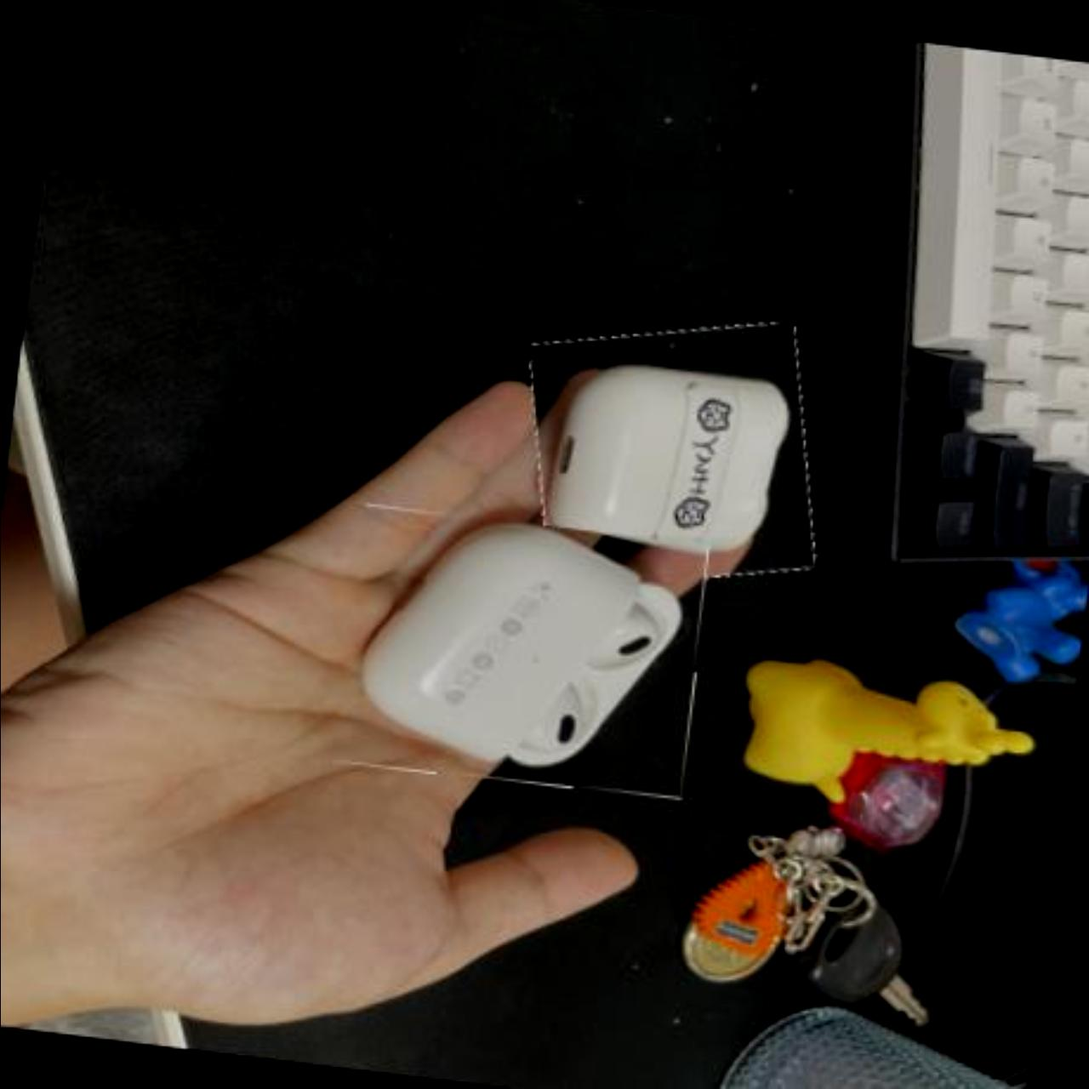AirPods: (331, 502, 710, 803), (510, 303, 829, 606)
